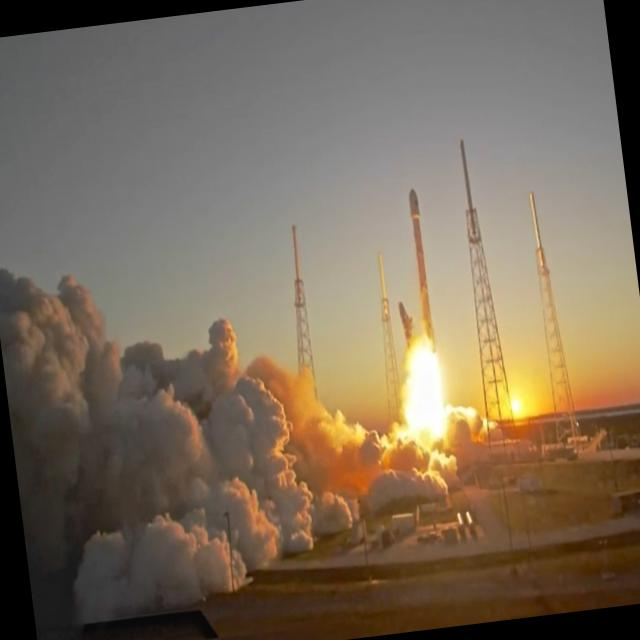rocket: (393, 184, 459, 439), (372, 240, 405, 400), (453, 130, 486, 250), (524, 189, 557, 304), (280, 215, 307, 309)
